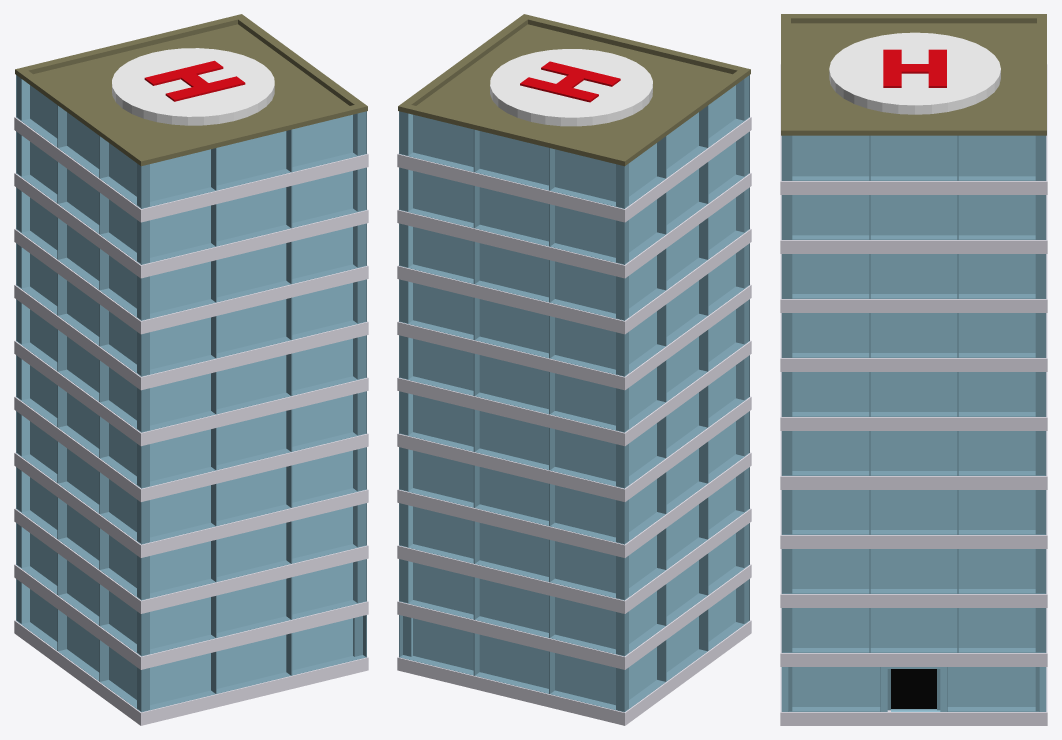
Rendered from building13.fbx.
3 views of the same model, side by side, from view 1: azimuth 30°, elevation 25°; view 2: azimuth 150°, elevation 25°; view 3: azimuth 270°, elevation 25° (orthographic). The views are drawn at different scales.
Visible parts, largest first — view 1: 立方体.001; view 2: 立方体.001; view 3: 立方体.001.
Part boxes in pixels (left/top/right/bottom): 立方体.001: left=14, top=14, right=368, bottom=725; 立方体.001: left=397, top=14, right=751, bottom=725; 立方体.001: left=780, top=14, right=1047, bottom=725.
Size of the model in its own units: 28.41 by 67.94 by 27.35.
